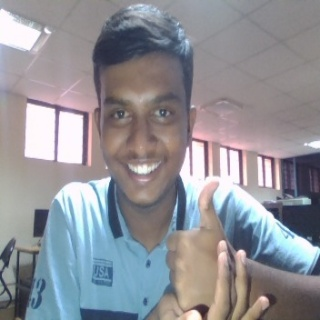Face: (91, 4, 198, 211)
Help: (155, 178, 272, 320)
